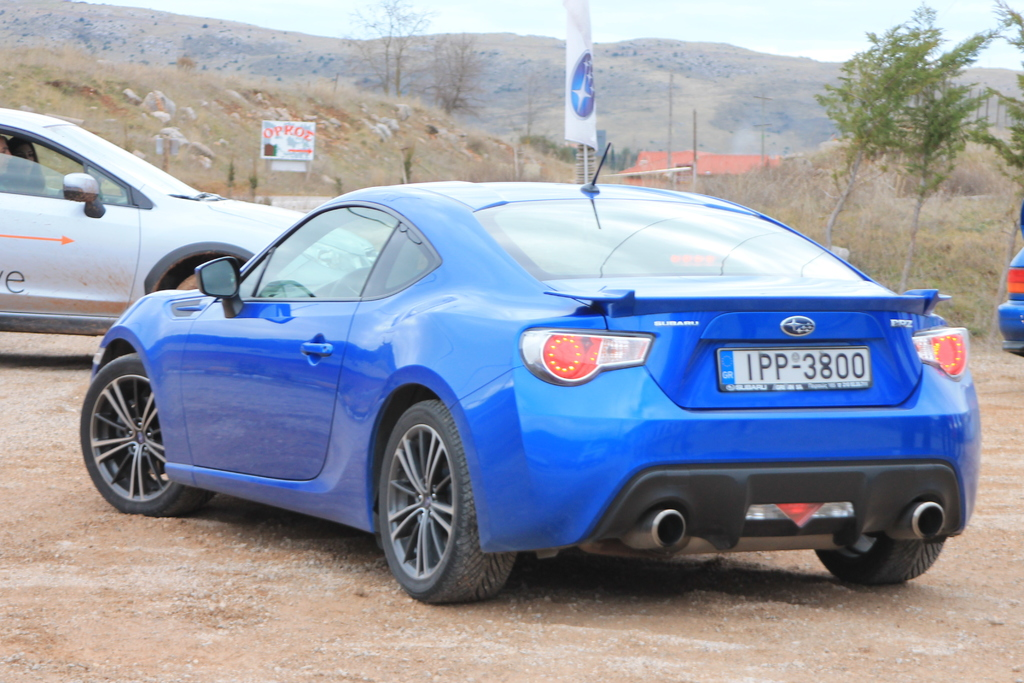Car: (79, 143, 982, 601), (0, 108, 374, 334)
